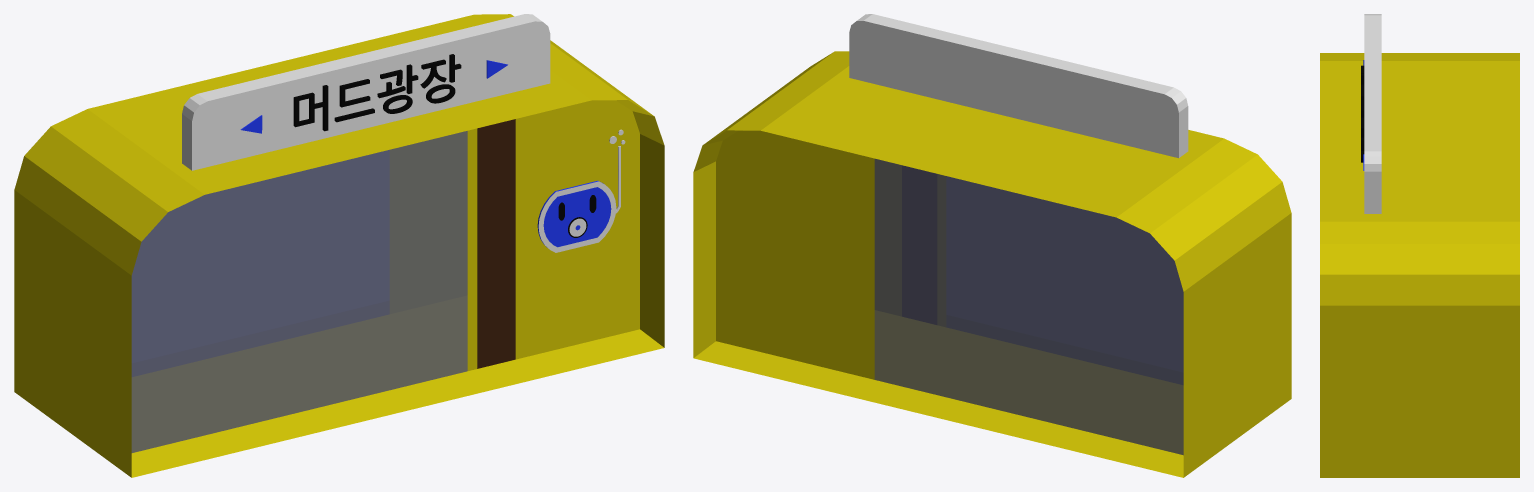
Rendered from MS_BusStation.fbx.
The picture shows the model from 3 angles, left to right: view 1: azimuth 30°, elevation 25°; view 2: azimuth 150°, elevation 25°; view 3: azimuth 270°, elevation 25°; orthographic projection. The views are drawn at different scales.
Visible parts, largest first — view 1: MS_BusStation; view 2: MS_BusStation; view 3: MS_BusStation.
Part boxes in pixels (x1=…): MS_BusStation: x1=14, y1=14, x2=664, y2=477; MS_BusStation: x1=693, y1=14, x2=1291, y2=477; MS_BusStation: x1=1320, y1=14, x2=1519, y2=477.
Bounding box in the file's own units: 258 × 98.43 × 154.
